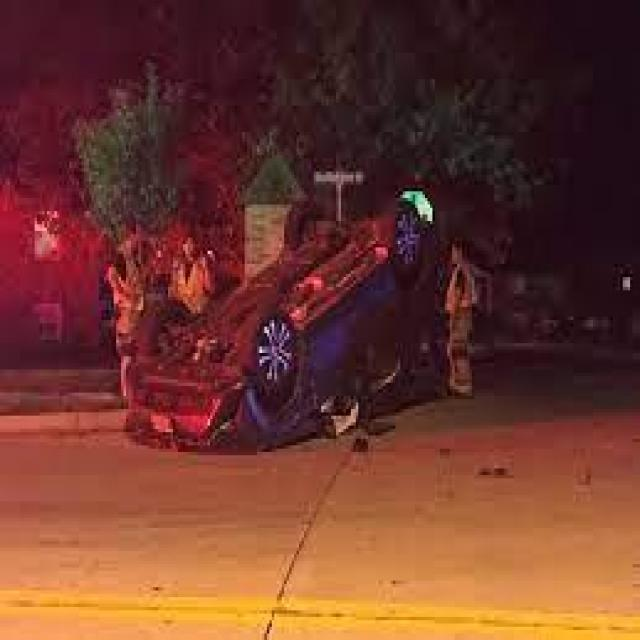accident: (122, 201, 439, 459)
